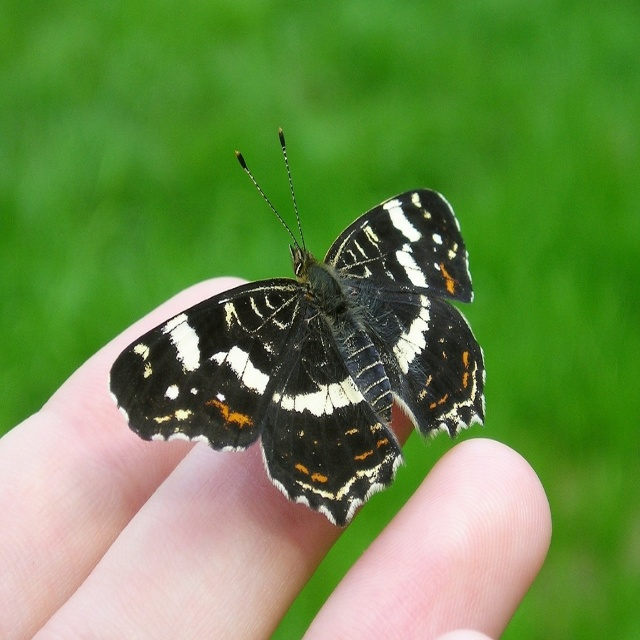Butterfly: (110, 131, 469, 529)
